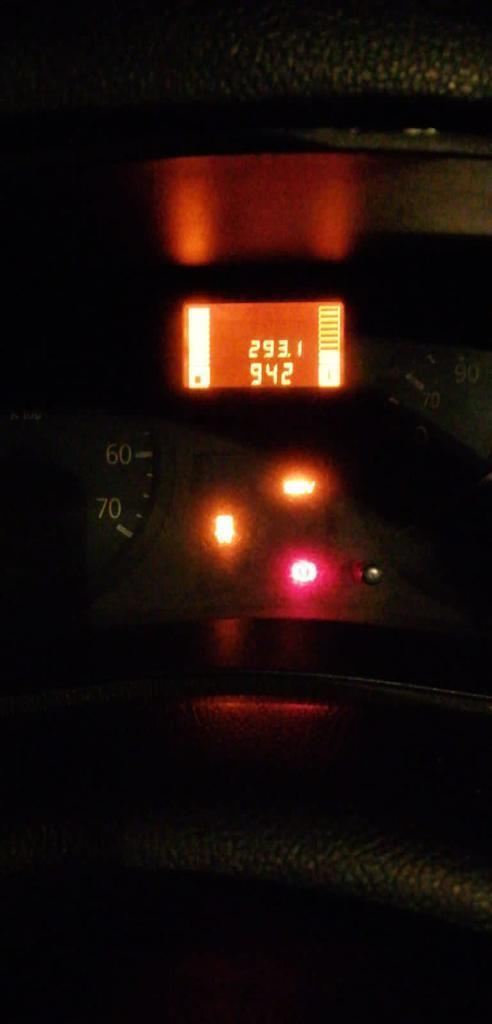,: (287, 352, 291, 358)
1: (295, 338, 304, 357)
2: (279, 361, 293, 385), (247, 338, 261, 359)
3: (276, 338, 287, 358)
4: (265, 361, 278, 386)
9: (249, 361, 262, 386), (261, 338, 274, 358)
odometer: (178, 298, 347, 392)
